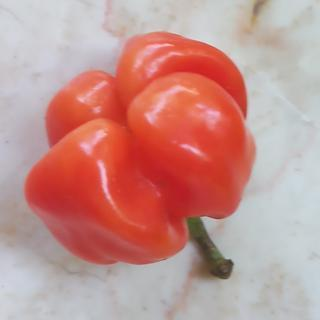Grade-B: (21, 23, 258, 268)
